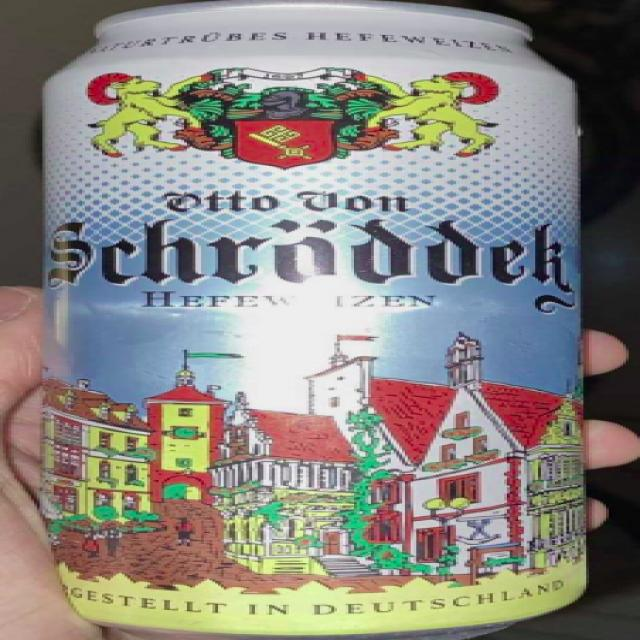Otto Von Schrodder Hefeweizen: (3, 1, 640, 640)
